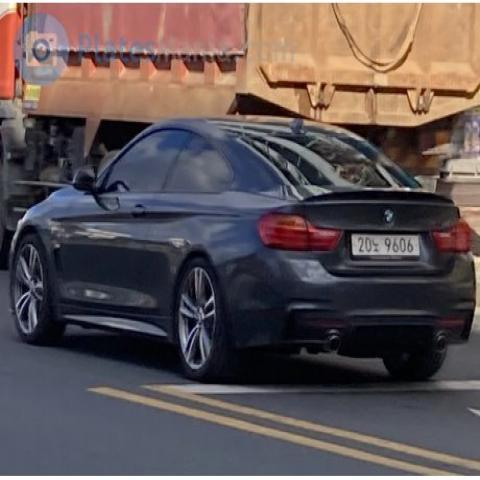LP: (339, 223, 429, 268)
